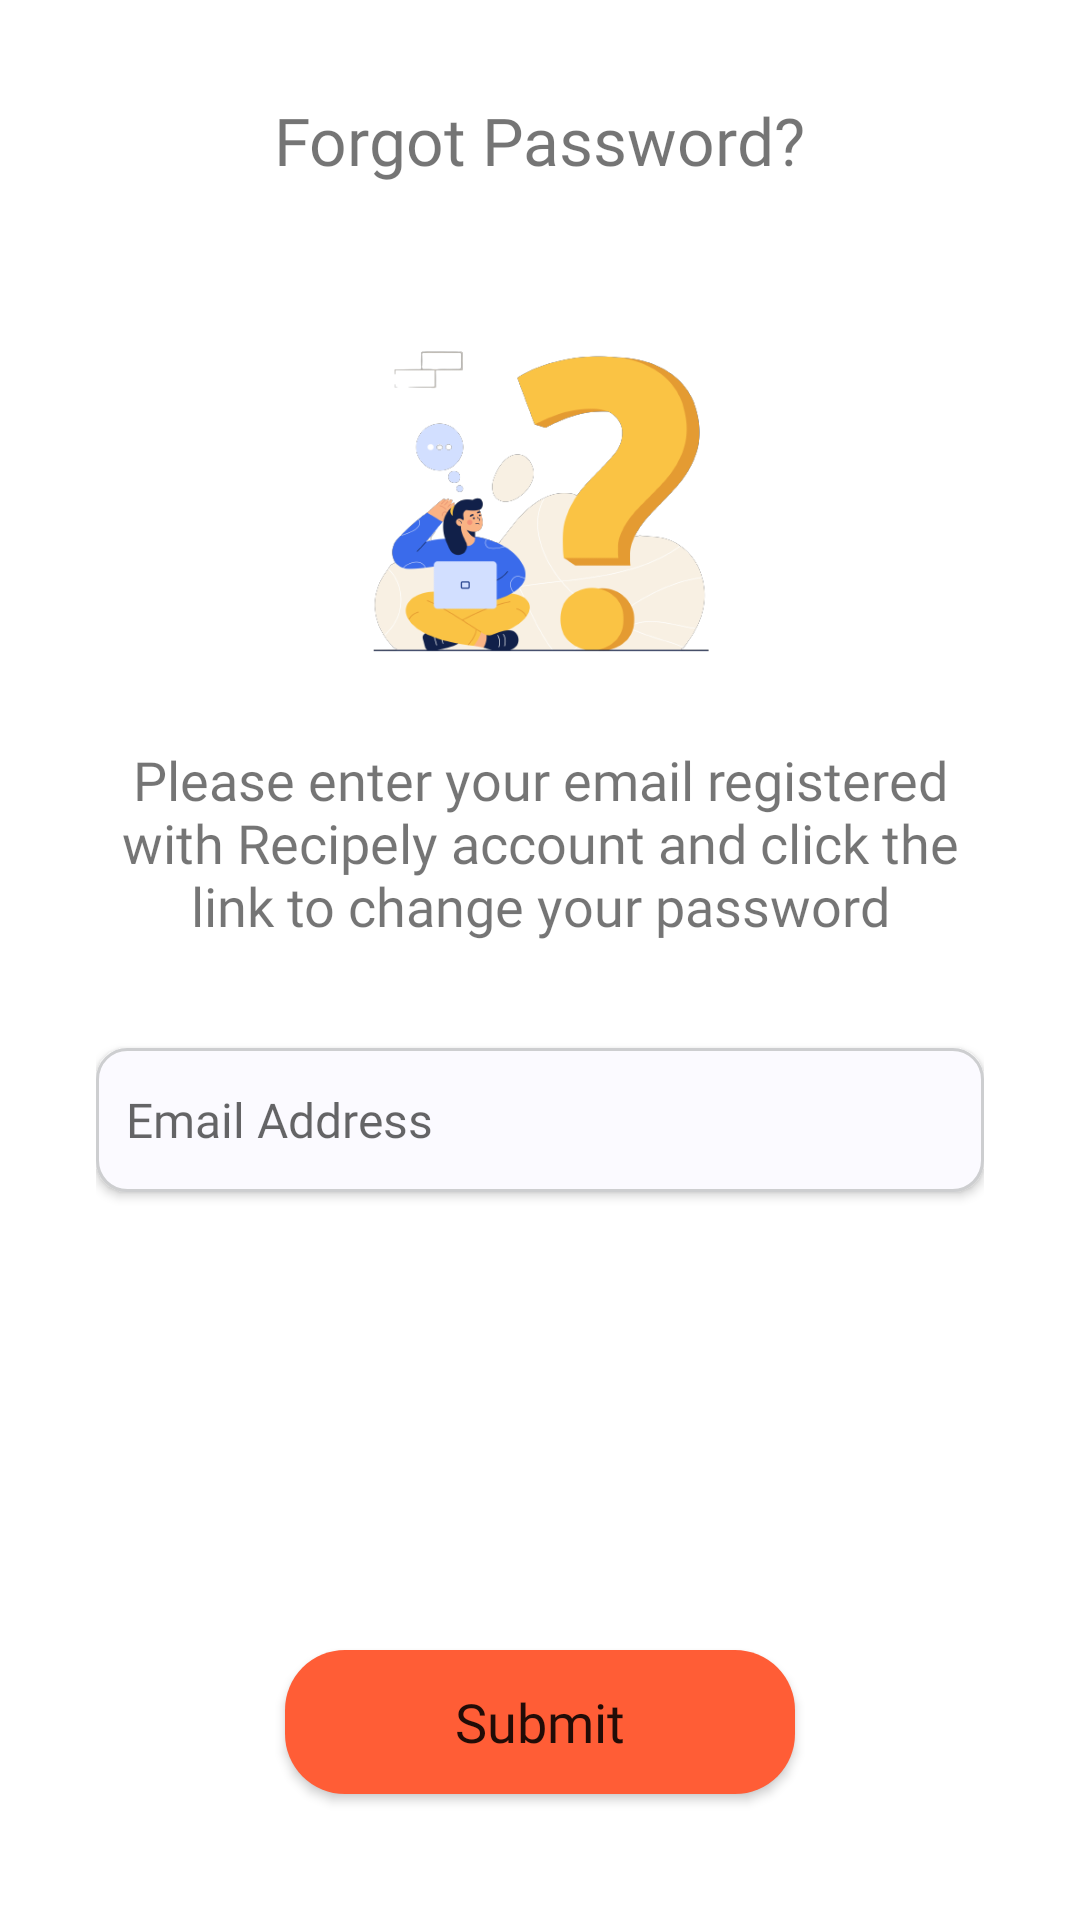

Icons on this 1080px x 1920px Android screen, each with its box as BBox(x1, y1, x2, y2):
illu forgot: BBox(373, 351, 709, 652)
